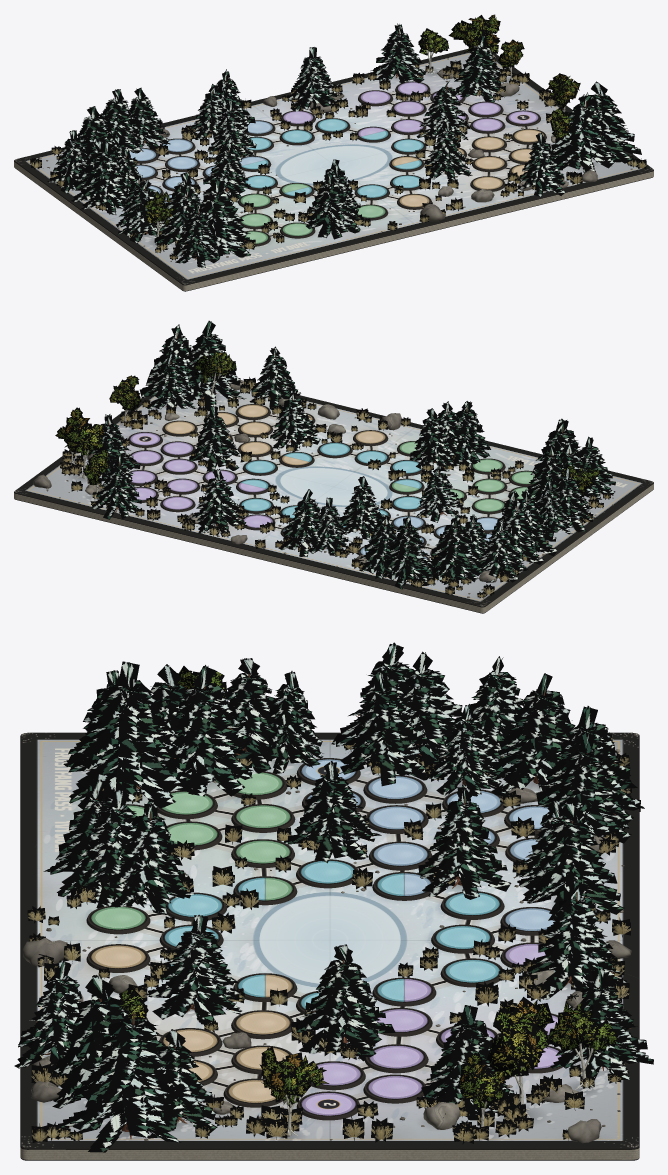
File: frost.glb
3 renders of one model, top to bottom at view 1: azimuth 30°, elevation 25°; view 2: azimuth 150°, elevation 25°; view 3: azimuth 270°, elevation 25°, orthographic. The views are drawn at different scales.
Visible parts, largest first — view 1: scenery (×10), board (×2); view 2: scenery (×10), board (×2); view 3: scenery (×9), board (×31).
Boxes of the visible parts, x1,y1,x2,y2 form: scenery (×10): [30, 14, 646, 267]; board (×2): [14, 49, 653, 291]; scenery (×10): [33, 320, 615, 598]; board (×2): [14, 389, 653, 613]; scenery (×9): [14, 642, 653, 1152]; board (×31): [20, 732, 639, 1160].
Size of the model in its own units: 12.54 by 2 by 7.99.
Materials: 20 (17 with a texture image).
